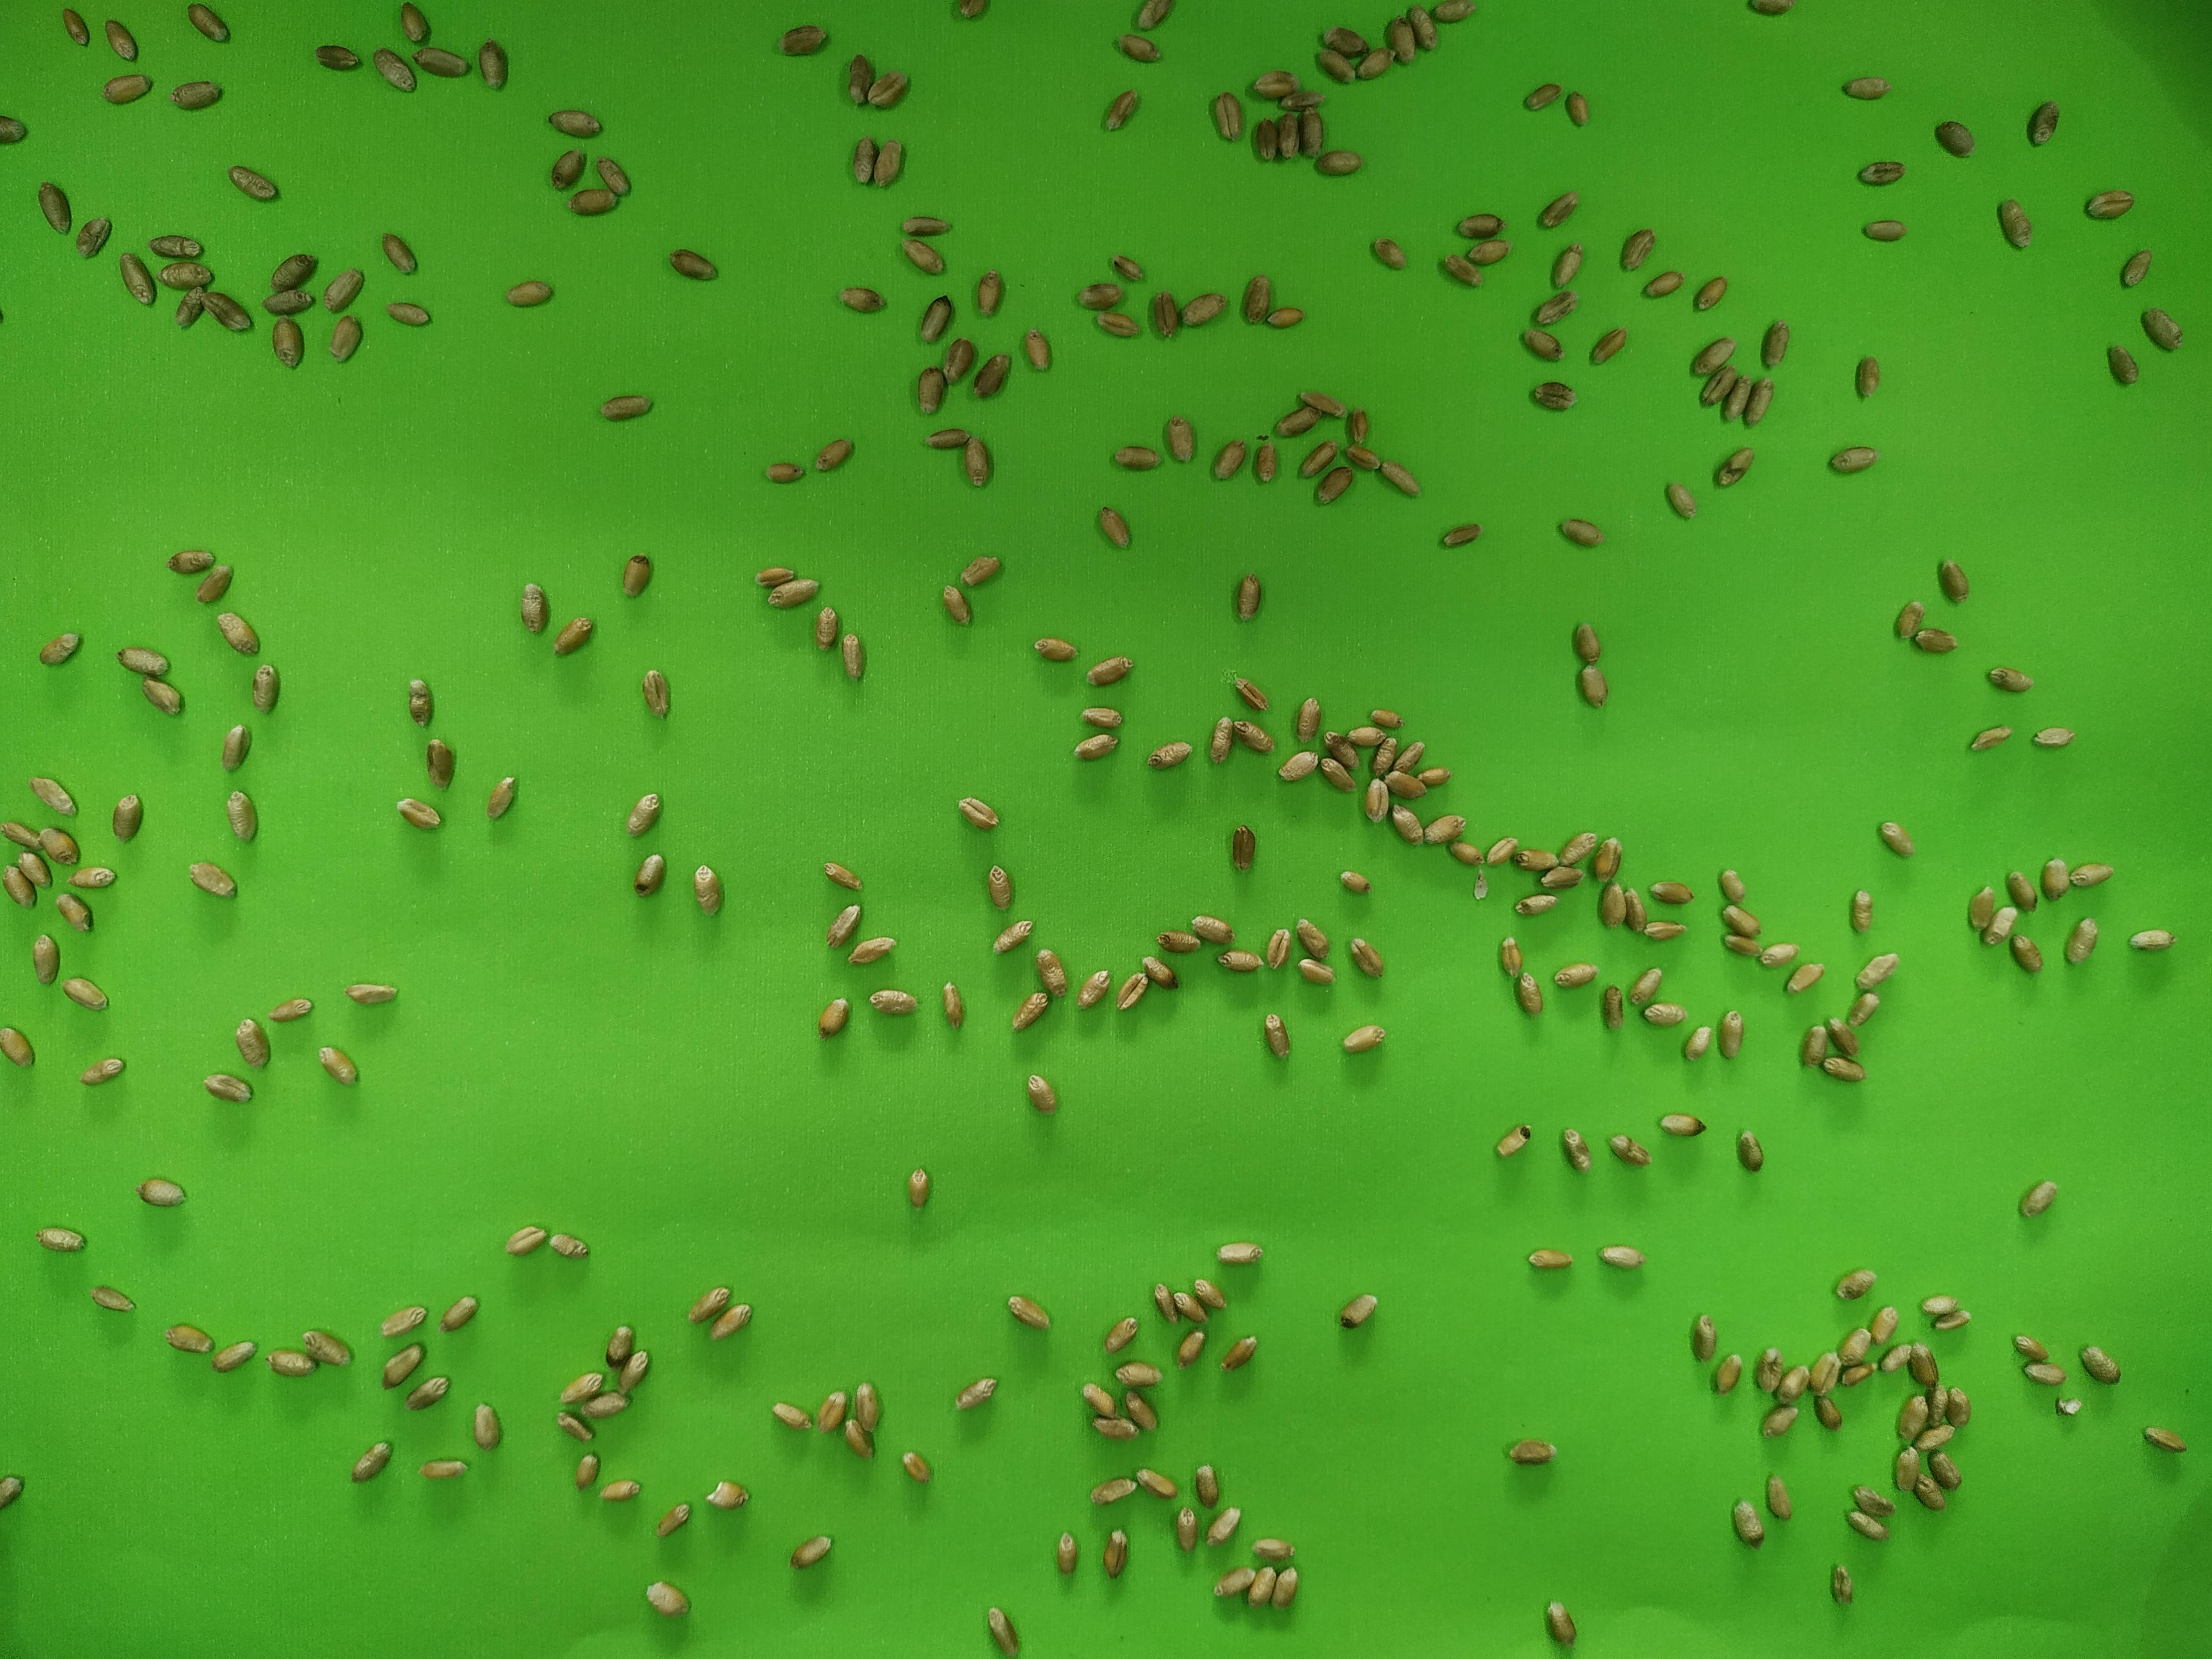bueno: (268, 308, 308, 369), (2015, 1175, 2064, 1223), (369, 44, 415, 94), (381, 1340, 425, 1392), (1146, 286, 1186, 342), (643, 1577, 691, 1622), (1310, 460, 1359, 505), (1108, 1354, 1165, 1392), (941, 331, 981, 385), (960, 434, 996, 491), (1294, 106, 1334, 159), (1211, 87, 1249, 141), (314, 1042, 359, 1087), (1658, 476, 1700, 525), (773, 23, 829, 59), (1163, 410, 1200, 465), (1184, 910, 1240, 946), (1691, 335, 1742, 375), (545, 145, 585, 195), (921, 291, 956, 349), (1618, 223, 1656, 275), (475, 35, 510, 92), (2081, 186, 2135, 223), (160, 1321, 214, 1358), (183, 0, 226, 45), (1200, 1502, 1242, 1549), (226, 164, 275, 204), (1021, 1070, 1061, 1119), (972, 265, 1007, 321), (852, 1375, 887, 1431), (2034, 854, 2073, 904), (1435, 249, 1486, 288), (1796, 1019, 1834, 1070), (1033, 945, 1069, 997), (1094, 500, 1130, 552), (1573, 657, 1609, 709), (899, 239, 951, 275), (556, 612, 599, 655), (1207, 437, 1251, 481), (592, 155, 634, 200), (209, 295, 254, 336), (2139, 307, 2184, 349), (810, 1389, 855, 1431), (2076, 1342, 2121, 1384), (1975, 899, 2015, 946), (1912, 1469, 1952, 1516), (110, 789, 145, 843), (1588, 831, 1623, 885), (1731, 1126, 1766, 1180), (1857, 213, 1911, 247), (690, 861, 726, 911), (974, 347, 1010, 397), (1230, 718, 1280, 755), (1728, 1497, 1764, 1547), (185, 863, 240, 896), (500, 277, 556, 310), (625, 791, 667, 835), (1634, 999, 1686, 1033), (1028, 633, 1080, 667), (620, 547, 655, 599), (1101, 87, 1143, 131), (1503, 1434, 1555, 1469), (1876, 816, 1918, 859), (982, 861, 1017, 913), (1827, 441, 1879, 476), (305, 1328, 350, 1368), (1844, 1506, 1890, 1546), (1228, 819, 1258, 880), (1864, 1300, 1902, 1347), (30, 929, 61, 986), (1688, 1309, 1719, 1366), (1292, 690, 1324, 748), (914, 362, 946, 420), (1275, 746, 1322, 784), (1519, 324, 1566, 362), (1529, 376, 1576, 415), (134, 1175, 188, 1208), (218, 720, 251, 774), (1418, 810, 1472, 843), (1242, 272, 1275, 326), (472, 1399, 505, 1453), (329, 310, 362, 364), (685, 1284, 733, 1321), (233, 1019, 270, 1068), (1212, 943, 1261, 979), (765, 1398, 813, 1434), (989, 918, 1038, 955), (937, 580, 974, 629), (1099, 284, 1134, 335), (1318, 24, 1369, 59), (846, 134, 881, 185), (122, 256, 157, 307), (84, 1283, 134, 1317), (1646, 875, 1696, 910), (836, 282, 887, 317), (77, 211, 111, 261), (953, 796, 1003, 831), (1803, 1354, 1844, 1396), (423, 734, 455, 789), (352, 1439, 394, 1481), (836, 629, 867, 685), (1101, 1523, 1132, 1579), (99, 71, 155, 103), (1383, 803, 1426, 843), (16, 850, 56, 894), (1275, 401, 1318, 441), (1345, 936, 1385, 979), (1099, 1312, 1139, 1356), (1073, 969, 1113, 1012), (1510, 840, 1555, 878), (1298, 441, 1343, 479), (1489, 1122, 1534, 1161), (1538, 190, 1583, 228), (1531, 288, 1576, 326), (1170, 1326, 1209, 1371), (1453, 209, 1505, 242), (1512, 967, 1545, 1019), (1263, 922, 1296, 974), (1021, 324, 1054, 376), (1595, 878, 1629, 931), (1839, 71, 1892, 105), (1317, 728, 1364, 765), (28, 775, 75, 812), (1226, 674, 1273, 711), (0, 863, 37, 910), (1606, 1131, 1653, 1168), (1339, 1019, 1386, 1056), (543, 106, 601, 136), (1855, 953, 1904, 988), (1329, 863, 1378, 897), (1242, 1561, 1277, 1610), (167, 80, 228, 108), (1996, 197, 2031, 246), (1569, 619, 1604, 667), (603, 1319, 637, 1368), (1385, 12, 1420, 61), (1545, 1598, 1580, 1647), (704, 1478, 752, 1513), (1085, 652, 1134, 687), (1909, 1338, 1940, 1392), (563, 185, 617, 216), (1561, 1124, 1592, 1178), (1205, 711, 1237, 765), (824, 901, 866, 941), (1770, 1363, 1810, 1405), (141, 673, 181, 714), (1076, 1378, 1116, 1420), (1933, 118, 1975, 159), (1111, 972, 1151, 1014), (1757, 1398, 1799, 1438), (813, 434, 855, 474), (1440, 836, 1491, 870), (164, 258, 214, 291), (226, 789, 260, 840), (866, 985, 916, 1018), (667, 247, 718, 281), (397, 0, 430, 51), (1113, 31, 1163, 64), (1144, 739, 1195, 772), (1005, 1293, 1049, 1331), (197, 561, 235, 605), (52, 892, 96, 931), (1221, 1330, 1259, 1373), (1559, 85, 1595, 131), (1939, 1385, 1975, 1431), (819, 857, 864, 894), (482, 775, 519, 821), (1935, 559, 1972, 605), (632, 852, 669, 897), (1118, 1389, 1163, 1425), (101, 17, 138, 63), (0, 1025, 37, 1070), (1292, 953, 1338, 990), (1716, 1007, 1745, 1063), (199, 1072, 254, 1101), (1191, 1457, 1221, 1513), (1211, 1563, 1258, 1598), (1895, 1392, 1930, 1439), (2102, 342, 2137, 389), (380, 228, 415, 275), (374, 1305, 427, 1337), (2141, 1422, 2188, 1457), (1073, 281, 1125, 312), (1360, 774, 1392, 826), (1233, 570, 1264, 622), (1092, 307, 1144, 338), (246, 664, 279, 713), (113, 643, 162, 676), (557, 1368, 606, 1401), (1851, 352, 1885, 401), (1245, 68, 1294, 101), (1655, 1108, 1703, 1141), (1757, 321, 1791, 369), (843, 51, 876, 99), (1268, 1561, 1301, 1610), (570, 1446, 603, 1495), (1089, 1474, 1137, 1507), (1317, 44, 1357, 84), (869, 139, 907, 181), (838, 1420, 876, 1462), (895, 1446, 934, 1488), (596, 392, 653, 420), (40, 629, 82, 667), (812, 599, 840, 657), (641, 666, 671, 720), (1050, 1528, 1080, 1582), (1557, 830, 1601, 866), (2118, 247, 2155, 291), (2005, 870, 2041, 913), (1008, 993, 1052, 1030), (1369, 234, 1413, 270), (1294, 917, 1331, 960), (1595, 1243, 1646, 1274), (1982, 662, 2033, 694), (1249, 1535, 1299, 1567), (1550, 960, 1601, 992), (819, 992, 850, 1042), (2024, 101, 2059, 146), (395, 796, 441, 831), (1136, 955, 1181, 990), (867, 71, 913, 106), (787, 1534, 833, 1568), (1249, 439, 1284, 484), (272, 254, 317, 289), (2064, 917, 2097, 964), (1966, 721, 2013, 755), (986, 1607, 1019, 1654), (1334, 1297, 1381, 1330), (705, 1303, 752, 1337), (78, 1054, 125, 1087), (404, 1377, 451, 1410), (1552, 242, 1585, 289), (1912, 624, 1959, 657), (1559, 514, 1606, 547), (31, 1225, 87, 1253), (937, 974, 965, 1030), (1085, 1415, 1141, 1443), (336, 979, 395, 1006), (383, 300, 435, 329), (261, 1347, 314, 1377), (521, 586, 550, 638), (38, 179, 68, 232), (38, 824, 77, 864), (1590, 326, 1630, 364), (1916, 1288, 1965, 1319), (1366, 734, 1402, 775), (1723, 375, 1754, 423), (266, 993, 315, 1025), (923, 423, 972, 455), (613, 1349, 650, 1391), (1714, 1354, 1750, 1396), (2027, 721, 2076, 753), (846, 936, 895, 967), (1524, 1244, 1573, 1276), (1925, 1452, 1966, 1488), (502, 1227, 550, 1258), (2022, 1354, 2064, 1391), (657, 1499, 693, 1541), (207, 1342, 256, 1373), (1825, 1012, 1862, 1054), (1846, 985, 1881, 1028), (1341, 404, 1376, 448), (1378, 460, 1421, 495), (953, 1377, 996, 1412), (1817, 1054, 1871, 1082), (406, 674, 434, 728), (545, 1229, 590, 1262), (900, 1166, 934, 1211), (958, 554, 1003, 587), (1134, 1467, 1179, 1500), (773, 577, 824, 606), (1151, 927, 1202, 957), (148, 232, 199, 261), (308, 42, 359, 71), (1313, 148, 1364, 178), (1261, 1009, 1291, 1060), (1754, 1342, 1785, 1389), (761, 457, 808, 488), (1895, 596, 1926, 643), (582, 1387, 629, 1419), (1078, 701, 1125, 732), (1832, 1267, 1879, 1298), (1181, 291, 1228, 322), (1625, 967, 1663, 1006), (2006, 934, 2043, 974), (1698, 369, 1735, 410), (441, 1293, 481, 1330), (1719, 903, 1761, 938), (1836, 1352, 1871, 1394), (1541, 859, 1583, 894), (411, 47, 467, 73), (1496, 931, 1524, 983), (1689, 277, 1731, 312), (1895, 1439, 1921, 1495), (1745, 375, 1775, 423), (2127, 927, 2175, 957), (1214, 1237, 1263, 1267), (1844, 887, 1874, 936), (1151, 1277, 1181, 1326), (165, 547, 214, 577), (1782, 960, 1825, 993), (1073, 730, 1116, 763), (1522, 78, 1566, 112), (1641, 268, 1684, 301), (1857, 157, 1902, 188), (57, 2, 89, 47), (415, 1455, 465, 1483), (1172, 1504, 1200, 1554), (2066, 859, 2116, 887), (1407, 10, 1446, 47), (1676, 1026, 1714, 1063), (1320, 758, 1359, 795), (326, 270, 364, 307), (266, 282, 307, 317), (2, 817, 42, 852), (1439, 521, 1486, 551), (554, 1410, 596, 1443), (1176, 1290, 1209, 1331), (1343, 441, 1386, 472), (1353, 45, 1397, 77), (1130, 0, 1174, 31), (900, 211, 949, 239), (1599, 983, 1627, 1032), (1111, 443, 1160, 471), (751, 561, 796, 591), (1362, 704, 1407, 734), (1252, 117, 1282, 162), (1717, 446, 1754, 483), (1428, 0, 1479, 26), (1850, 1486, 1897, 1514), (1106, 253, 1148, 284), (1717, 863, 1747, 906), (1510, 892, 1559, 918), (2012, 1330, 2048, 1364), (596, 1478, 641, 1506), (1761, 939, 1801, 971), (64, 978, 105, 1009), (1264, 301, 1306, 331), (66, 866, 117, 890), (1764, 1474, 1791, 1521), (1467, 237, 1510, 265), (1827, 1563, 1855, 1607), (1191, 1276, 1228, 1309), (1811, 1394, 1843, 1432), (1918, 1425, 1958, 1455), (1383, 772, 1428, 798), (1392, 735, 1425, 770), (948, 0, 995, 24), (1644, 917, 1688, 943), (1932, 1309, 1975, 1335), (1968, 887, 1998, 925), (1832, 1335, 1878, 1359), (1623, 889, 1646, 936), (1416, 767, 1460, 789), (1214, 441, 1235, 488), (1357, 789, 1397, 814), (1153, 293, 1179, 329), (1883, 1345, 1916, 1373), (1258, 125, 1287, 153)
impureza: (2050, 1394, 2088, 1419), (1470, 866, 1491, 906)
